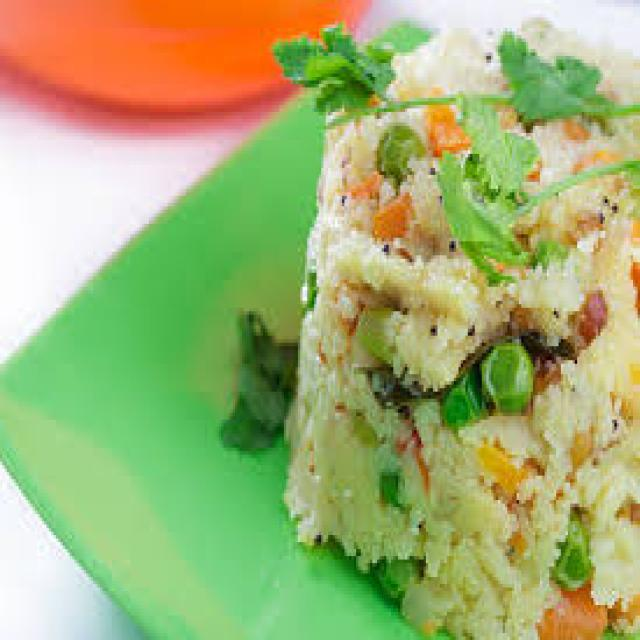UPMA: (277, 0, 635, 637)
